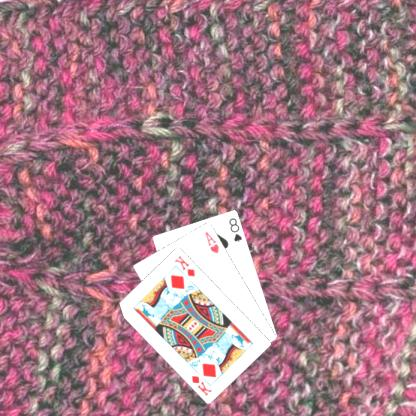8S: (228, 214, 245, 244)
AH: (204, 228, 222, 255)
KD: (174, 252, 198, 277), (191, 373, 215, 398)
